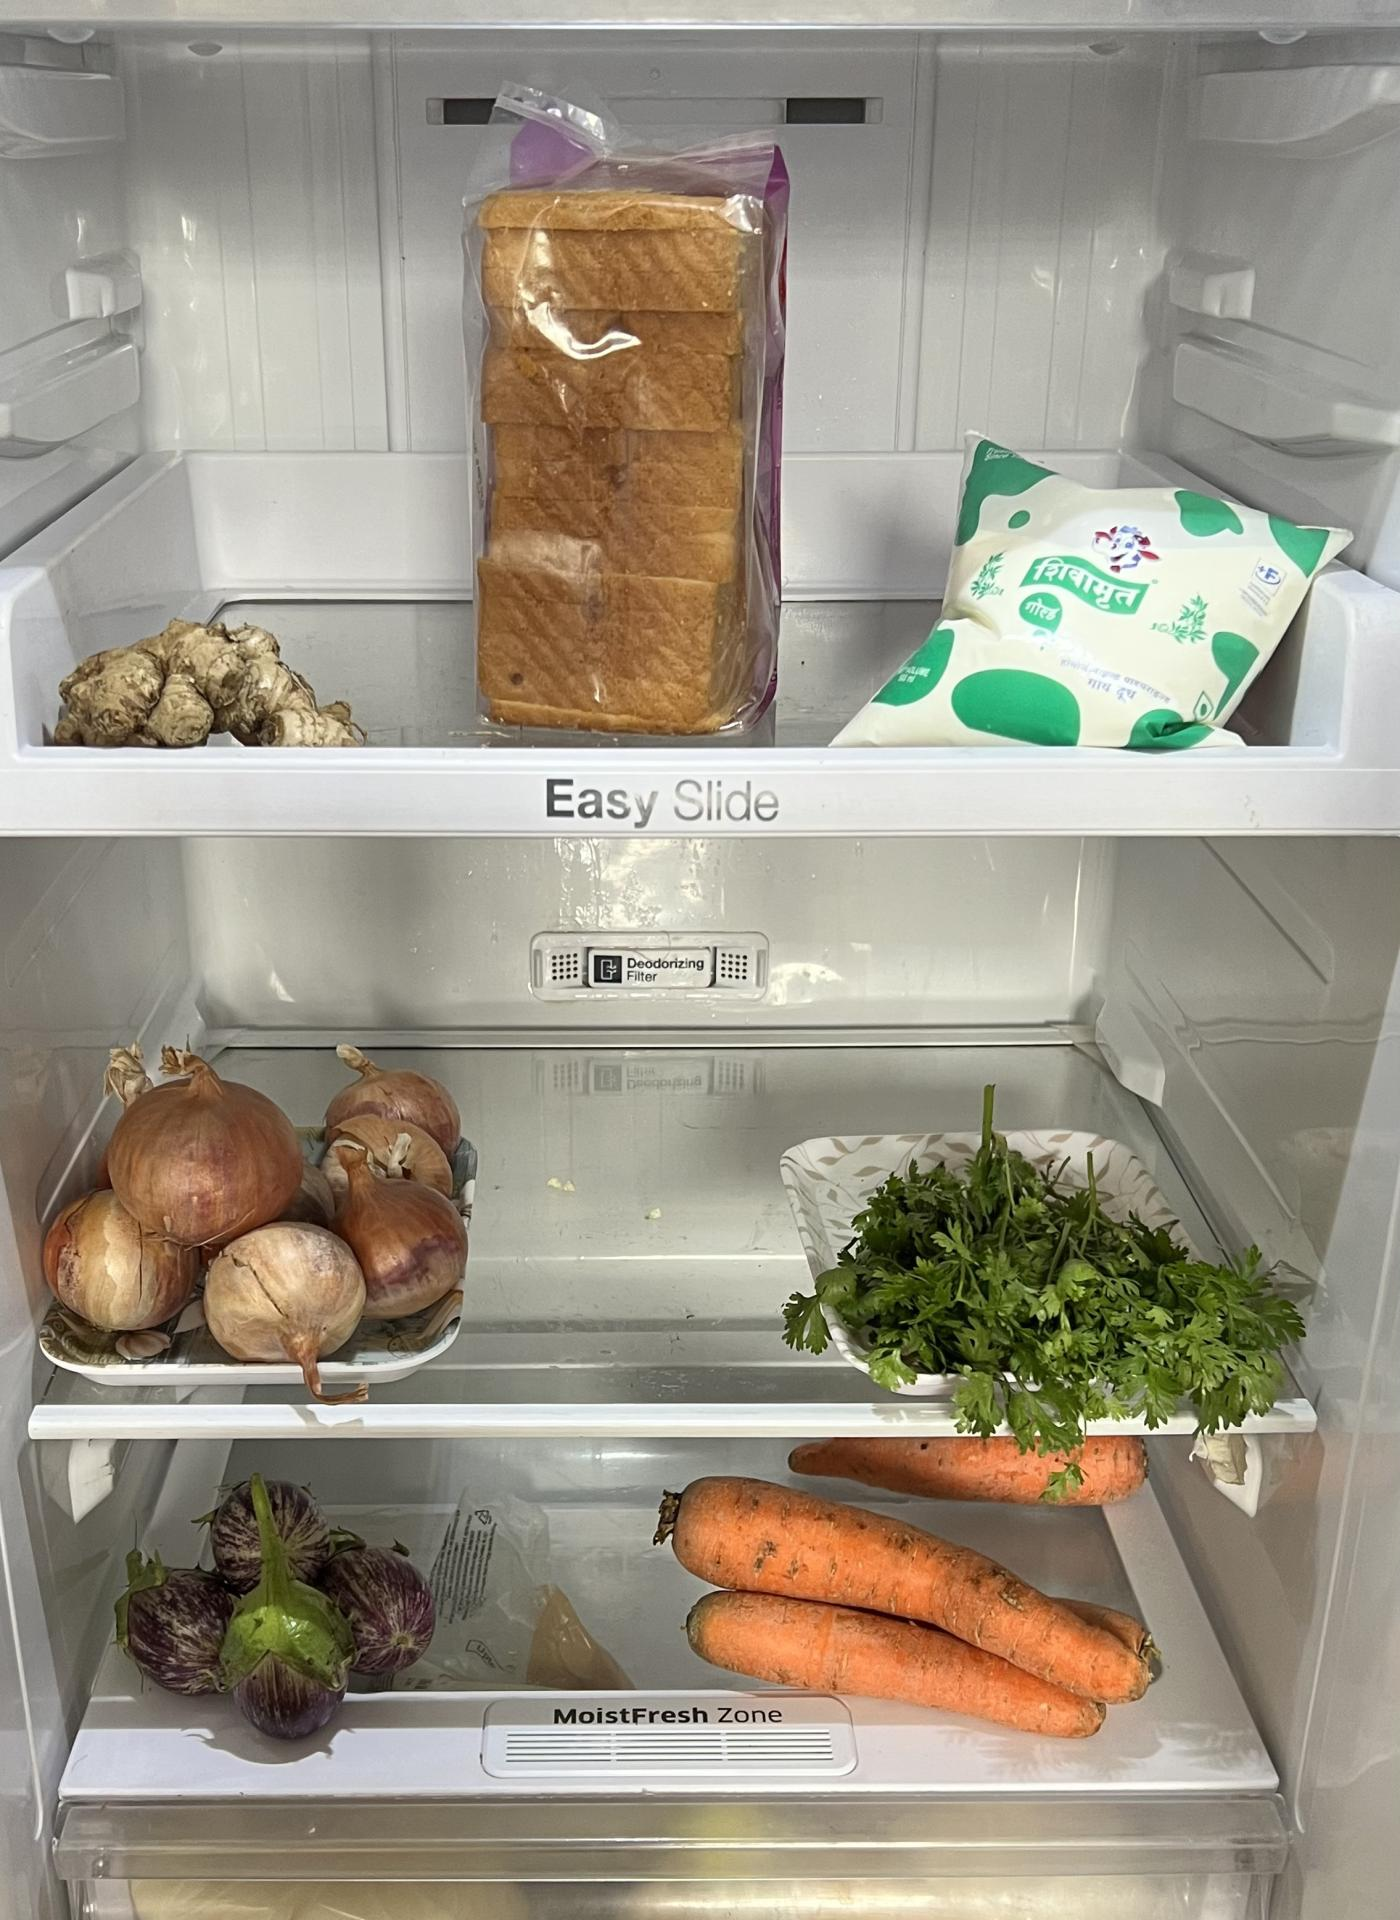bread: (443, 106, 799, 735)
carrots: (655, 1441, 1169, 1731)
coriander: (787, 1152, 1302, 1427)
ginger: (43, 602, 367, 754)
milk: (842, 435, 1348, 757)
onion: (45, 1038, 473, 1365)
